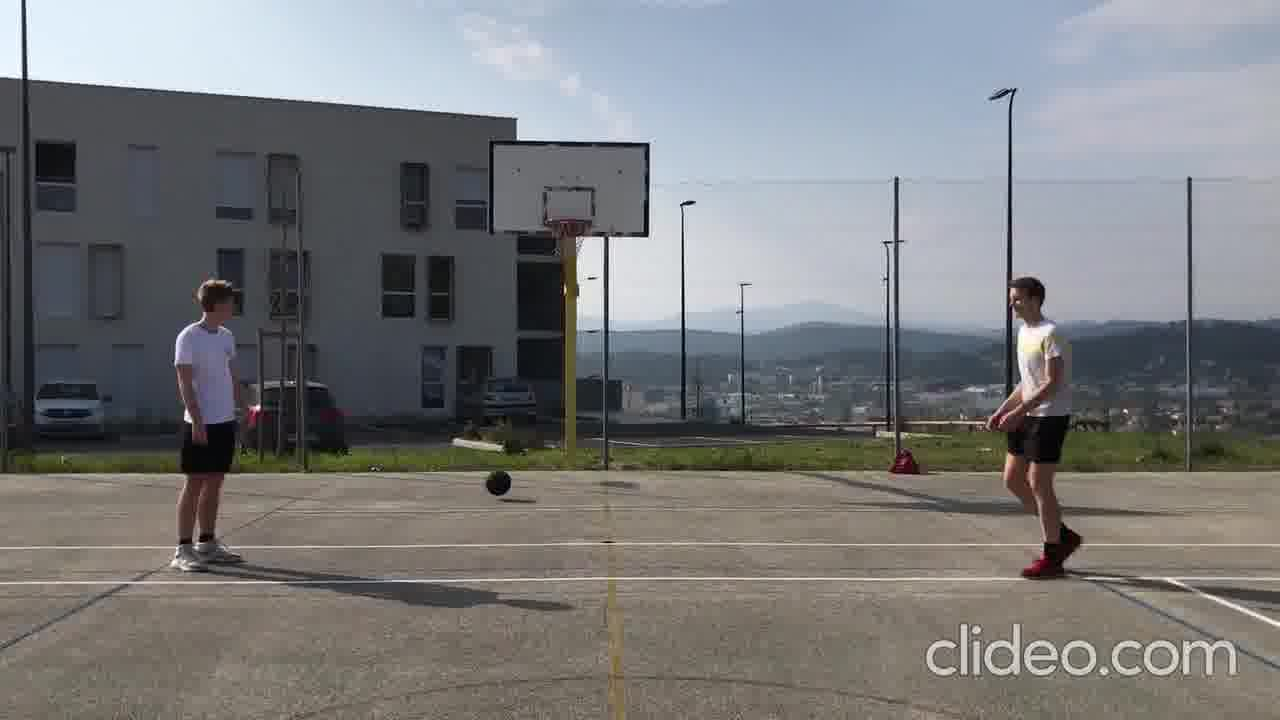jugador: (972, 267, 1097, 588)
